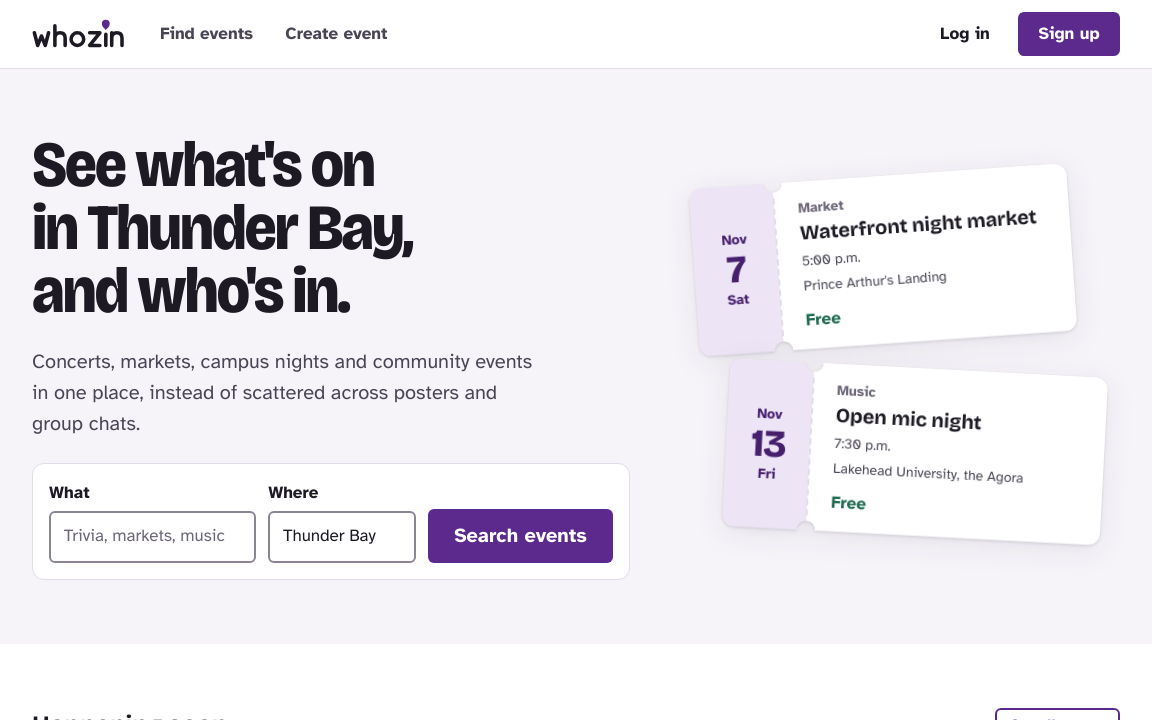
Test: navbar › moves between pages and marks the current link
Click the link "Find events": x=207, y=33 [160, 23, 253, 44]
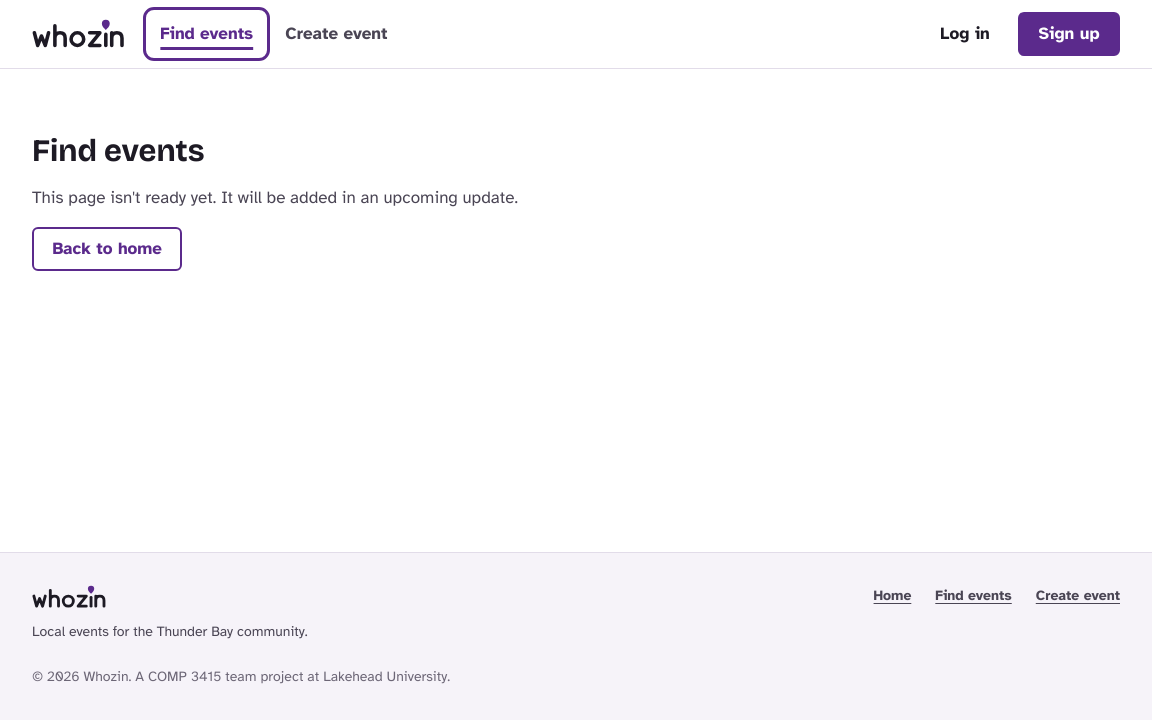
Result: the link "Find events" in the row of "Log in" is marked as current at [160, 23, 253, 44]
Click the link "Sign up": x=1069, y=34 [1018, 12, 1120, 56]
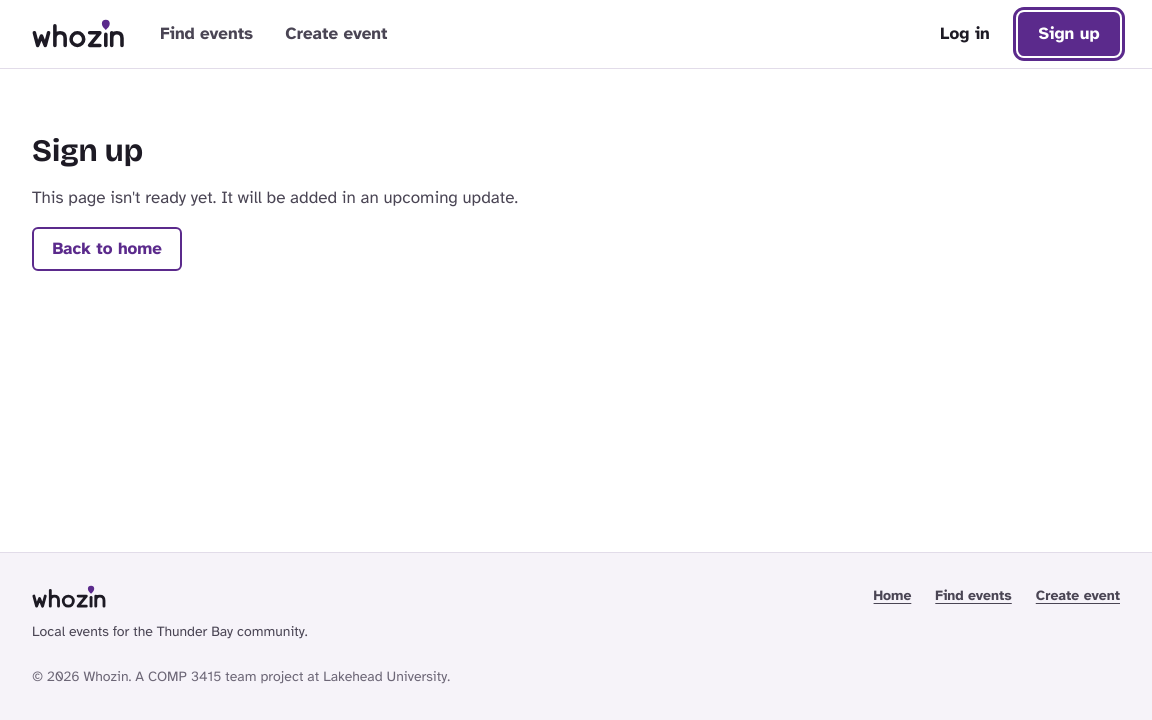
Result: the heading "Sign up" is shown at [32, 133, 143, 169]
Click the link named "Whozin home": x=78, y=34 [32, 11, 124, 57]
(page scrolled)
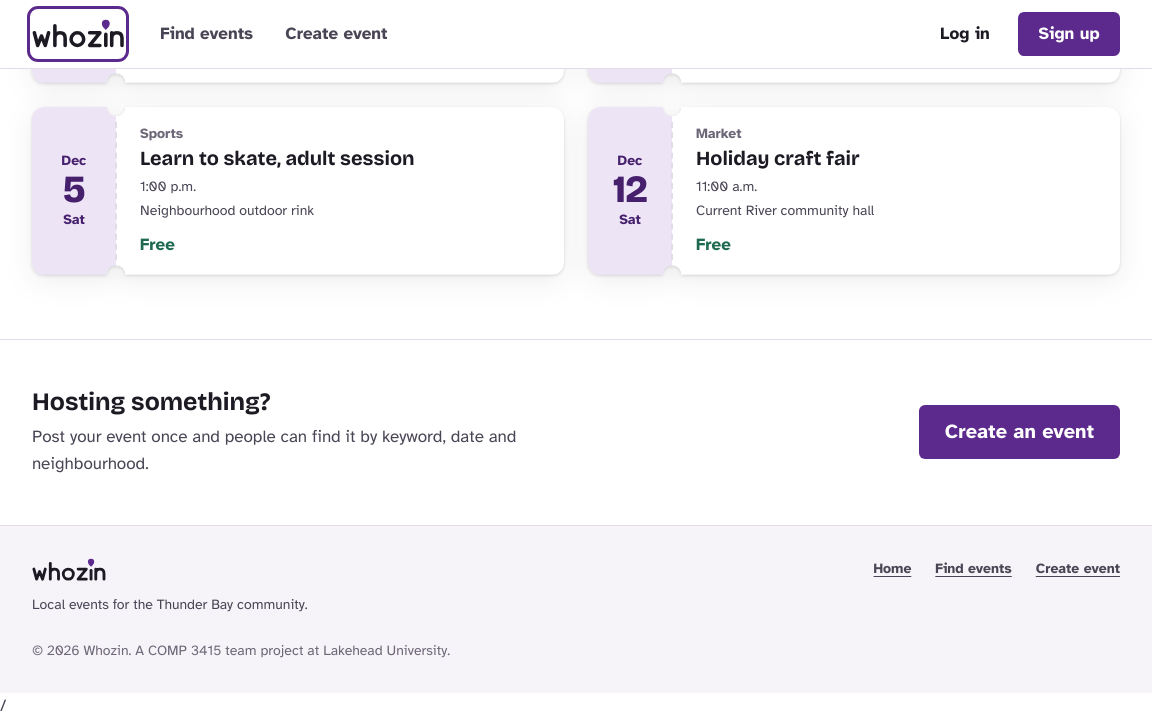
Result: the text with test id "location" reads "/" at [0, 695, 6, 716]
